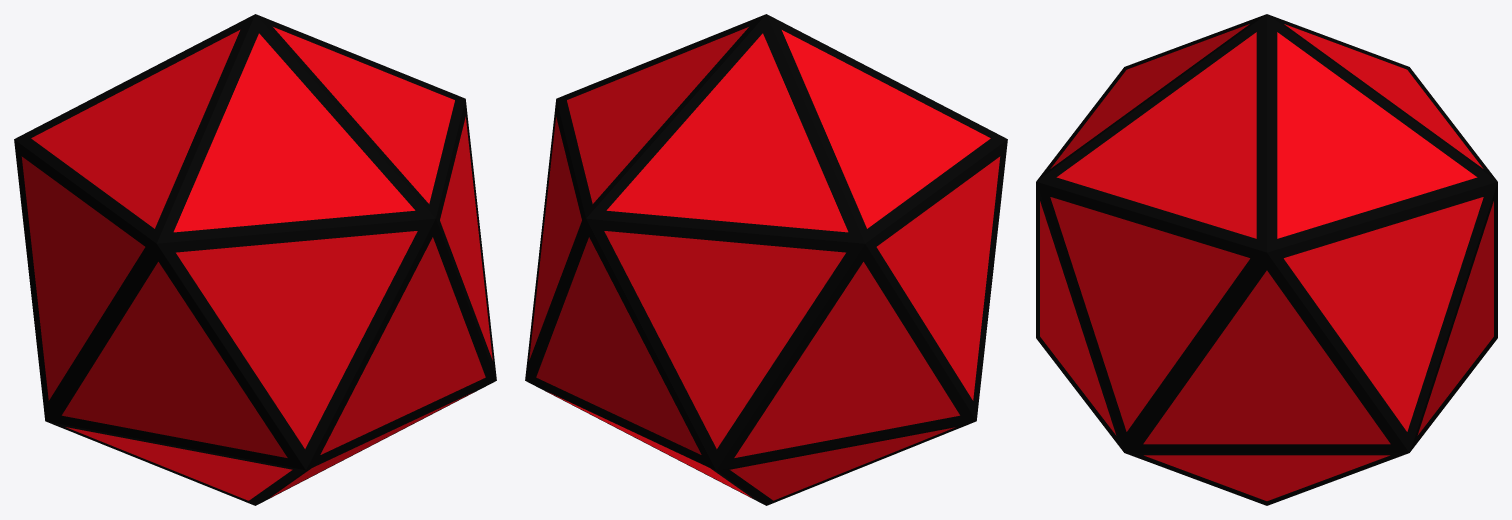
The model's file is PlayerDie.fbx.
3 renders of one model, left to right at view 1: azimuth 30°, elevation 25°; view 2: azimuth 150°, elevation 25°; view 3: azimuth 270°, elevation 25°, orthographic.
Parts seen in each view (by area): view 1: Icosphere; view 2: Icosphere; view 3: Icosphere.
Boxes of the visible parts, x1,y1,x2,y2 form: Icosphere: (14, 14, 496, 505); Icosphere: (525, 14, 1007, 505); Icosphere: (1036, 14, 1497, 505).
Size of the model in its own units: 537 by 600 by 510.
